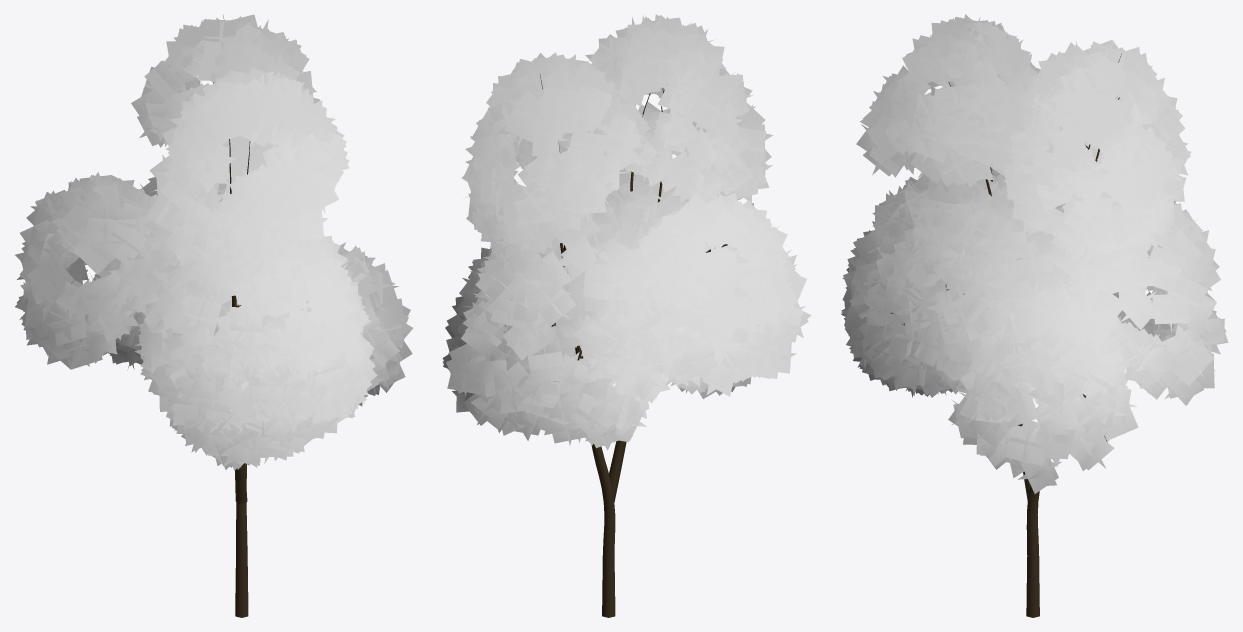
The model's file is tree.fbx.
The picture shows the model from 3 angles, left to right: view 1: azimuth 30°, elevation 25°; view 2: azimuth 150°, elevation 25°; view 3: azimuth 270°, elevation 25°; orthographic projection.
Parts seen in each view (by area): view 1: leaf.001, tree; view 2: leaf.001, tree; view 3: leaf.001, tree.
Boxes of the visible parts, x1=… form: leaf.001: x1=15, y1=14, x2=413, y2=470; tree: x1=213, y1=15, x2=250, y2=617; leaf.001: x1=442, y1=14, x2=811, y2=450; tree: x1=540, y1=74, x2=727, y2=617; leaf.001: x1=841, y1=14, x2=1228, y2=493; tree: x1=949, y1=53, x2=1121, y2=617.
Size of the model in its own units: 542 by 832 by 502.
